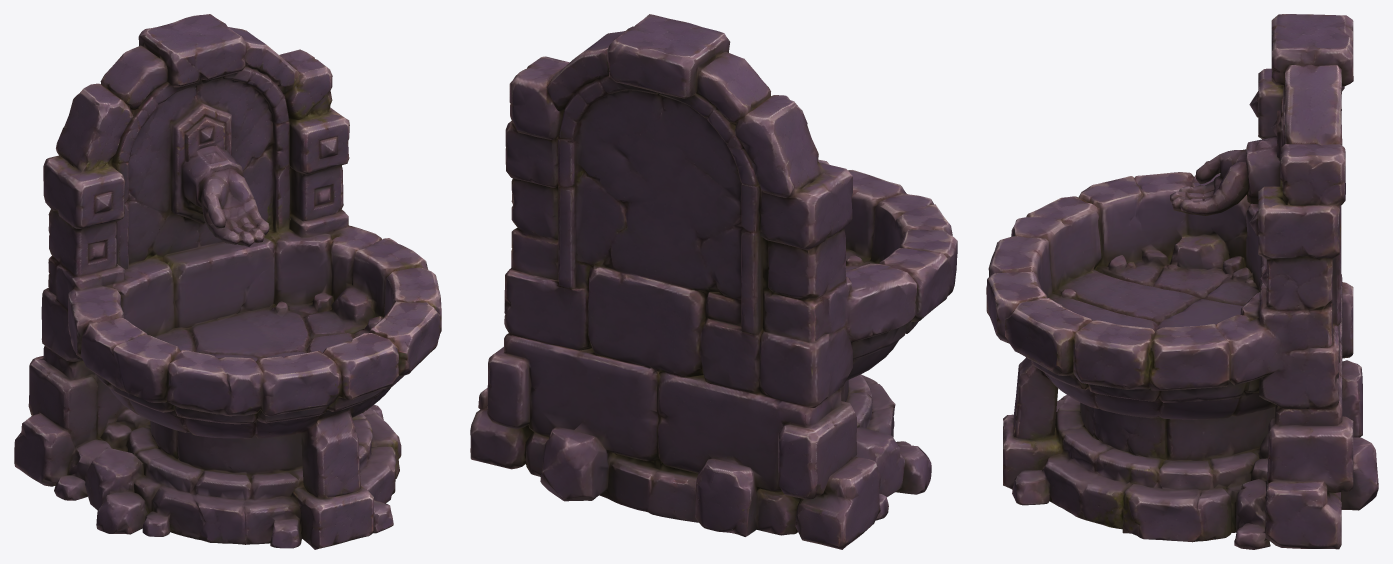
File: healing_fountain.glb
3 renders of one model, left to right at view 1: azimuth 30°, elevation 25°; view 2: azimuth 150°, elevation 25°; view 3: azimuth 270°, elevation 25°, orthographic. The views are drawn at different scales.
Parts seen in each view (by area): view 1: tripo_node_618b44cf-159b-4d8d-9a67-0c07420bd6e8; view 2: tripo_node_618b44cf-159b-4d8d-9a67-0c07420bd6e8; view 3: tripo_node_618b44cf-159b-4d8d-9a67-0c07420bd6e8.
Boxes of the visible parts, x1=… form: tripo_node_618b44cf-159b-4d8d-9a67-0c07420bd6e8: x1=14, y1=14, x2=441, y2=549; tripo_node_618b44cf-159b-4d8d-9a67-0c07420bd6e8: x1=470, y1=14, x2=957, y2=549; tripo_node_618b44cf-159b-4d8d-9a67-0c07420bd6e8: x1=986, y1=14, x2=1378, y2=549.
Bounding box in the file's own units: 0.8478 × 1 × 0.8066.
1 material, 1 textured.
